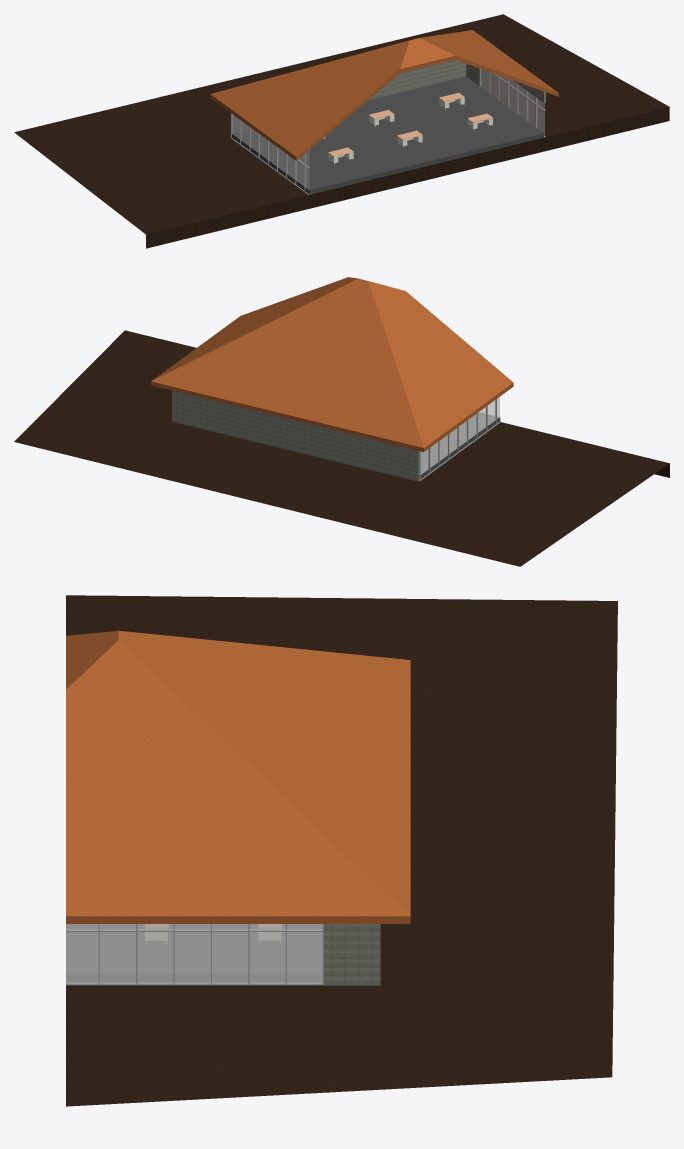
The picture shows the model from 3 angles, top to bottom: view 1: azimuth 30°, elevation 25°; view 2: azimuth 150°, elevation 25°; view 3: azimuth 270°, elevation 25°; orthographic projection. The views are drawn at different scales.
Parts seen in each view (by area): view 1: geometry-lumionModel (×8); view 2: geometry-lumionModel (×6); view 3: geometry-lumionModel (×6).
Part boxes in pixels (x1,y1,x2,y2): geometry-lumionModel (×8): (14, 14, 669, 248); geometry-lumionModel (×6): (14, 277, 669, 566); geometry-lumionModel (×6): (66, 595, 617, 1106).
Bounding box in the file's own units: 48.91 × 22.31 × 11.72.
9 materials, 4 textured.
